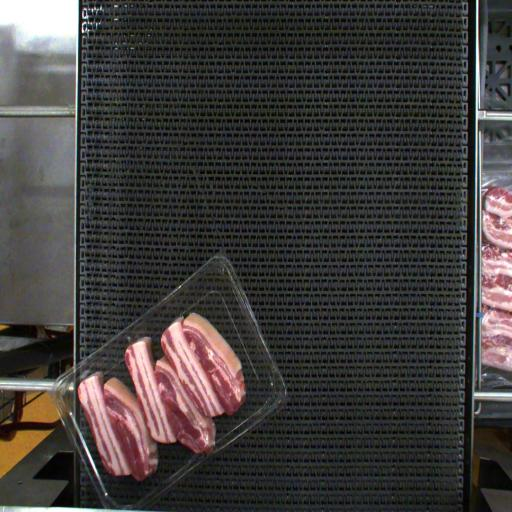packaging-error: (122, 328, 143, 345)
